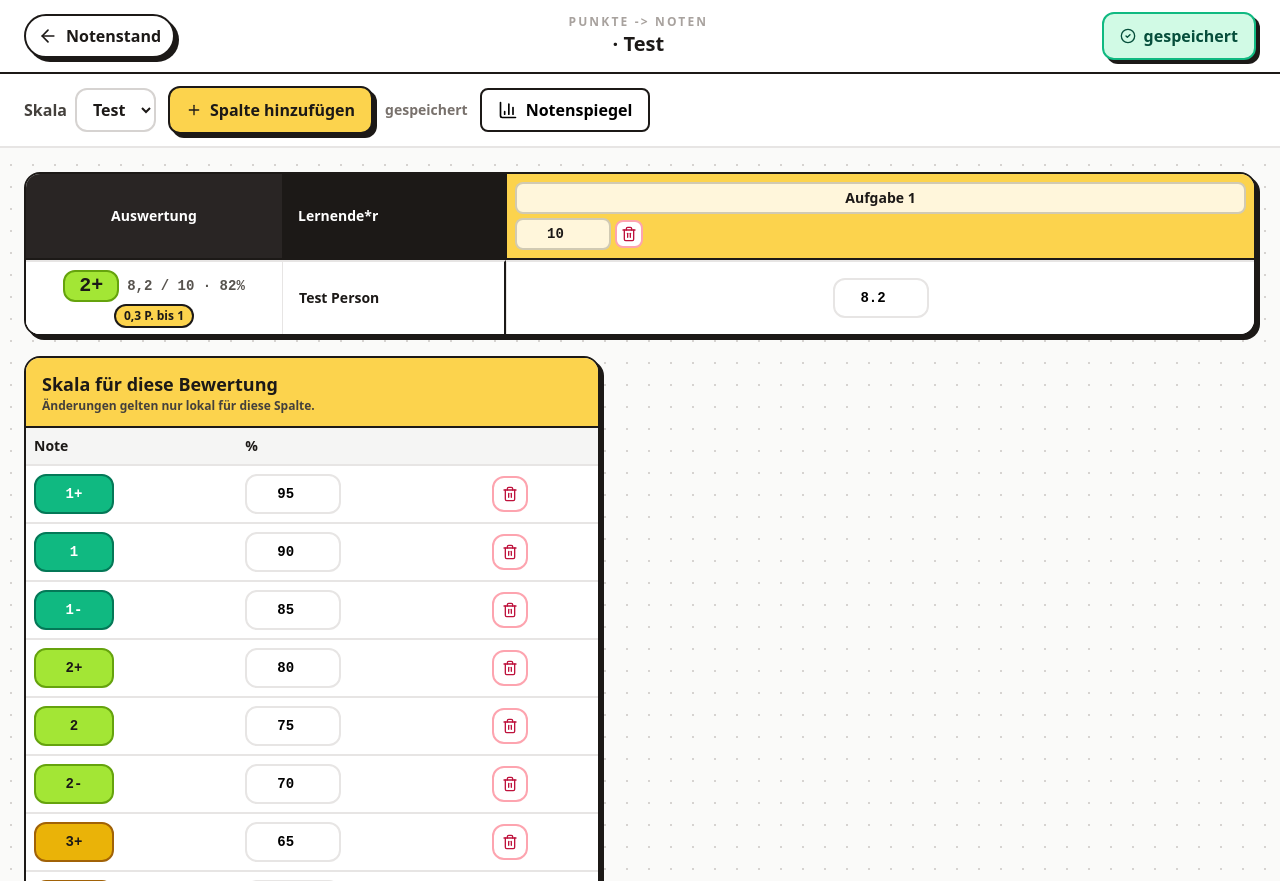
Test: toggles distribution without losing entered scores: grades_1_6 / klausur
The width and height of the screenshot is (1280, 881).
Later steps or results of the test are not shown.
Click the button "Notenspiegel": (565, 110) [480, 88, 650, 132]
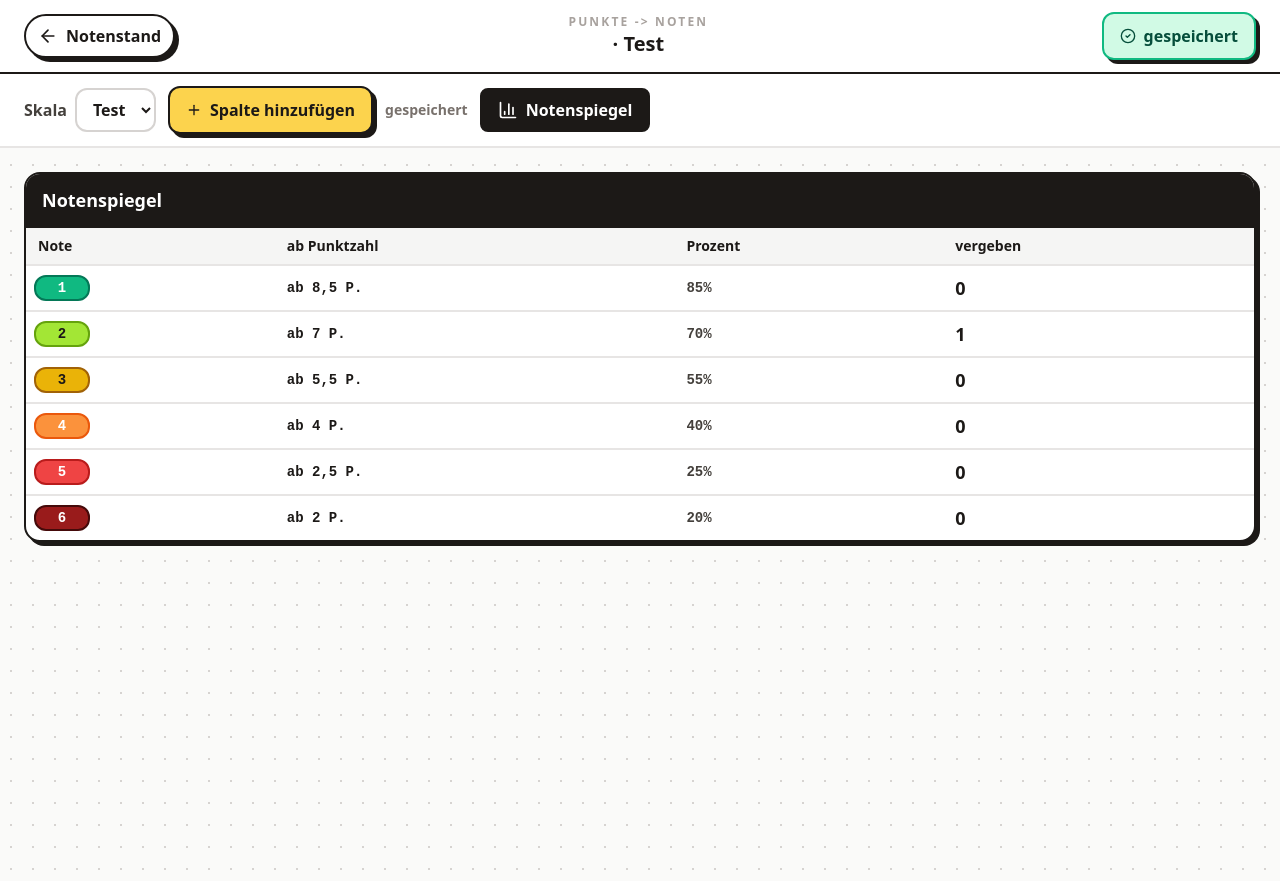
expect the text "2" is shown: met, box [58, 327, 66, 341]
